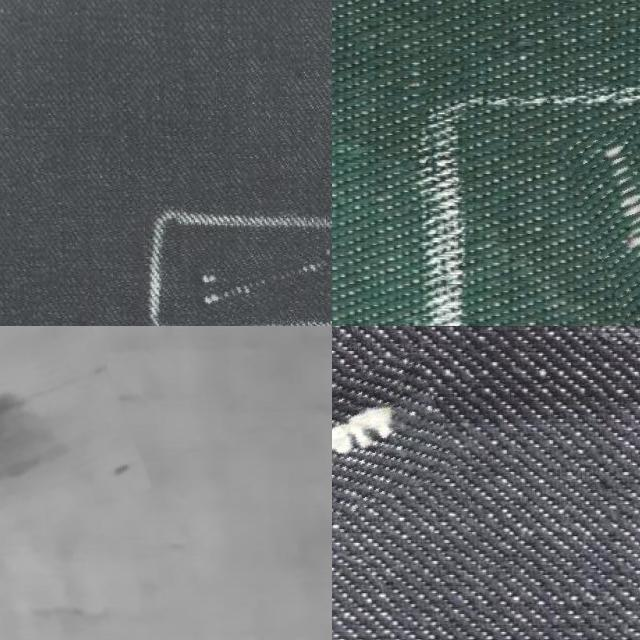Thread_other: (0, 326, 135, 540)
stains: (332, 366, 452, 527), (576, 107, 640, 326), (193, 249, 332, 319)
